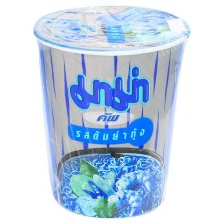paper_cup: (28, 0, 195, 222)
